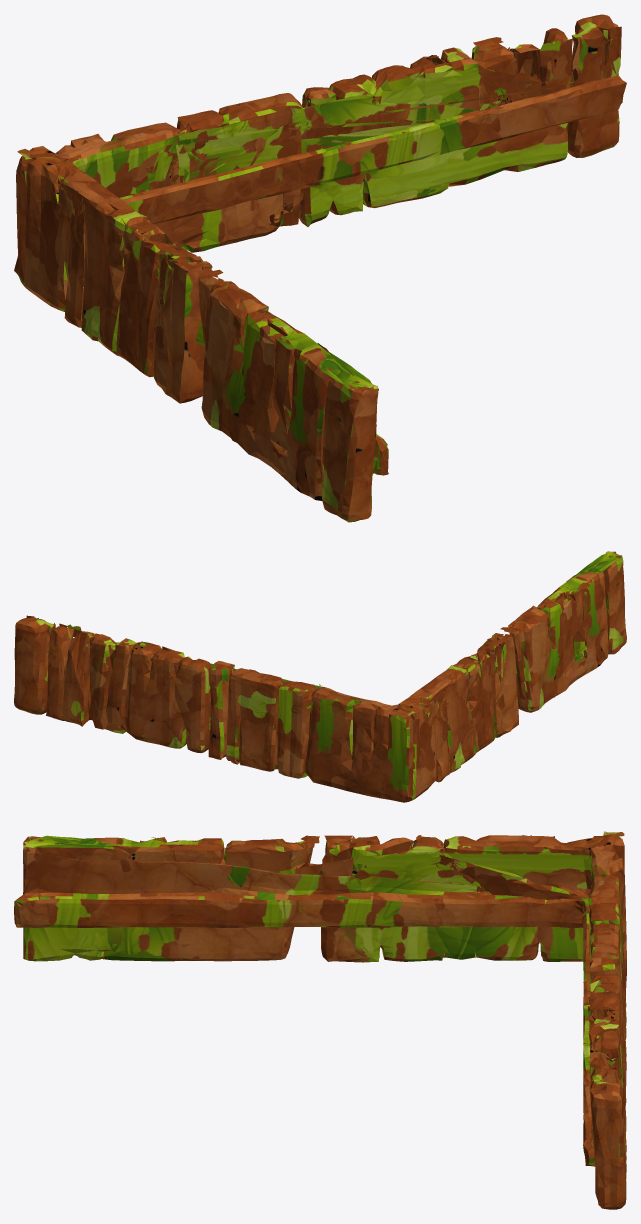
Rendered from fence gate 2.obj.
The picture shows the model from 3 angles, top to bottom: view 1: azimuth 30°, elevation 25°; view 2: azimuth 150°, elevation 25°; view 3: azimuth 270°, elevation 25°; orthographic projection. The views are drawn at different scales.
Visible parts, largest first — view 1: tripo_node_00861b42-83ed-44d5-b1dc-75477b5ebbfa; view 2: tripo_node_00861b42-83ed-44d5-b1dc-75477b5ebbfa; view 3: tripo_node_00861b42-83ed-44d5-b1dc-75477b5ebbfa.
Part boxes in pixels (x1,y1,x2,y2): tripo_node_00861b42-83ed-44d5-b1dc-75477b5ebbfa: (14,14,626,522); tripo_node_00861b42-83ed-44d5-b1dc-75477b5ebbfa: (14,551,626,802); tripo_node_00861b42-83ed-44d5-b1dc-75477b5ebbfa: (14,831,626,1209).
Bounding box in the file's own units: 1 × 0.2183 × 0.9901.
